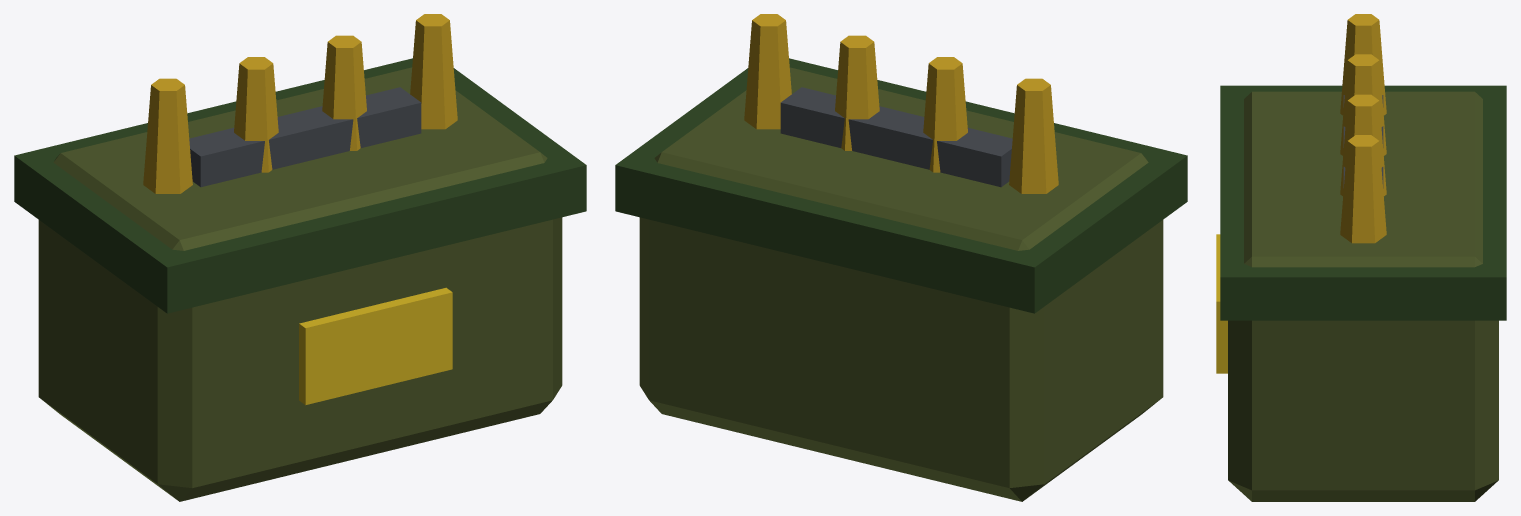
The model's file is pk_ammo.glb.
3 views of the same model, side by side, from view 1: azimuth 30°, elevation 25°; view 2: azimuth 150°, elevation 25°; view 3: azimuth 270°, elevation 25° (orthographic). The views are drawn at different scales.
Visible parts, largest first — view 1: box; view 2: box; view 3: box.
Part boxes in pixels (left/top/right/bottom): box: left=14, top=14, right=586, bottom=501; box: left=615, top=14, right=1187, bottom=501; box: left=1216, top=14, right=1506, bottom=501.
Bounding box in the file's own units: 0.57 × 0.47 × 0.365.
Materials: 1 (1 with a texture image).
